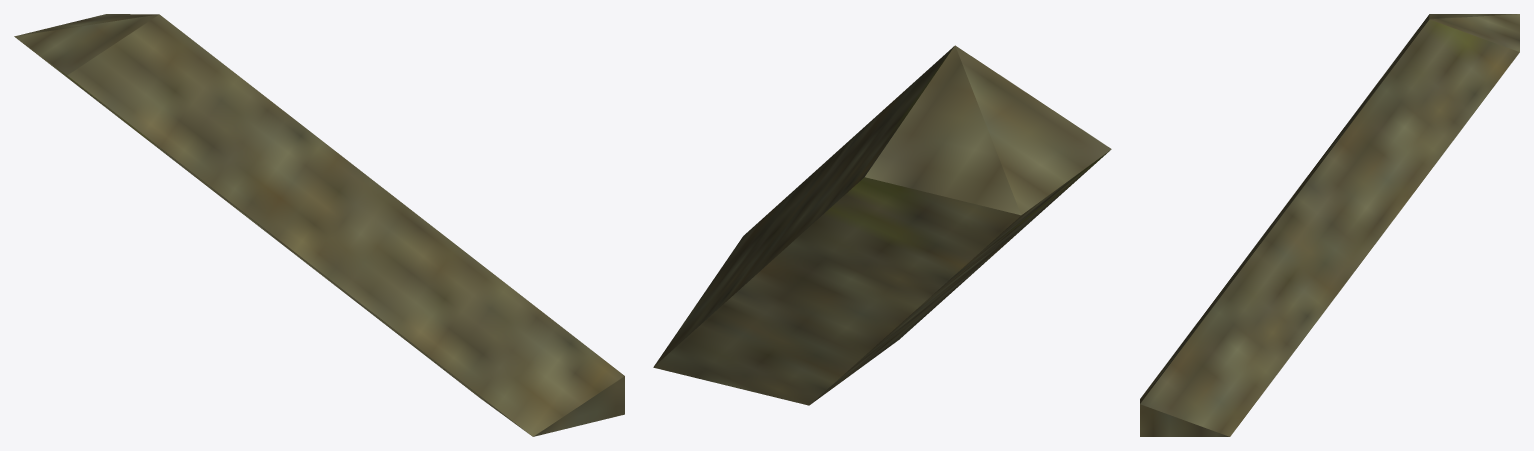
File: poplar_thin_branch_45_diagonal.obj
3 renders of one model, left to right at view 1: azimuth 30°, elevation 25°; view 2: azimuth 150°, elevation 25°; view 3: azimuth 270°, elevation 25°, orthographic. The views are drawn at different scales.
Parts seen in each view (by area): view 1: cube_selection; view 2: cube_selection; view 3: cube_selection.
Part boxes in pixels (x1=…): cube_selection: x1=14, y1=14, x2=624, y2=436; cube_selection: x1=653, y1=45, x2=1111, y2=405; cube_selection: x1=1140, y1=14, x2=1519, y2=436.
Size of the model in its own units: 1.31 by 1.12 by 1.31.
